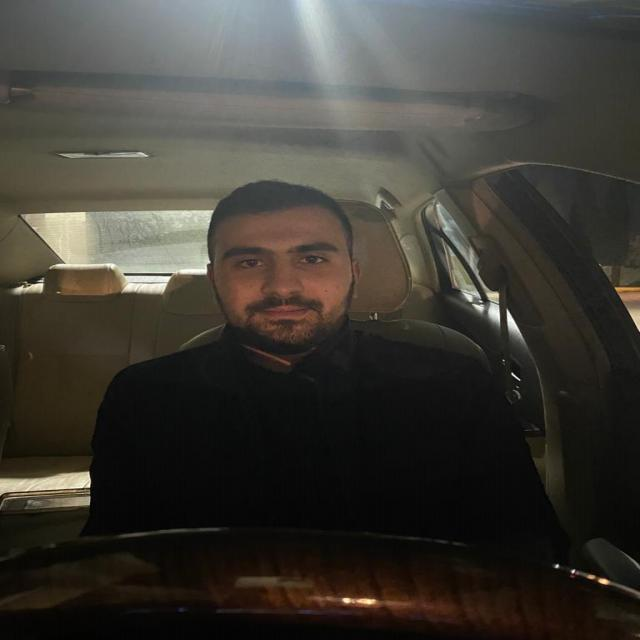person: (198, 166, 371, 364)
